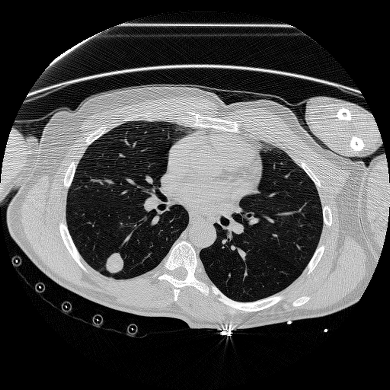nodule: (105, 254, 125, 274)
